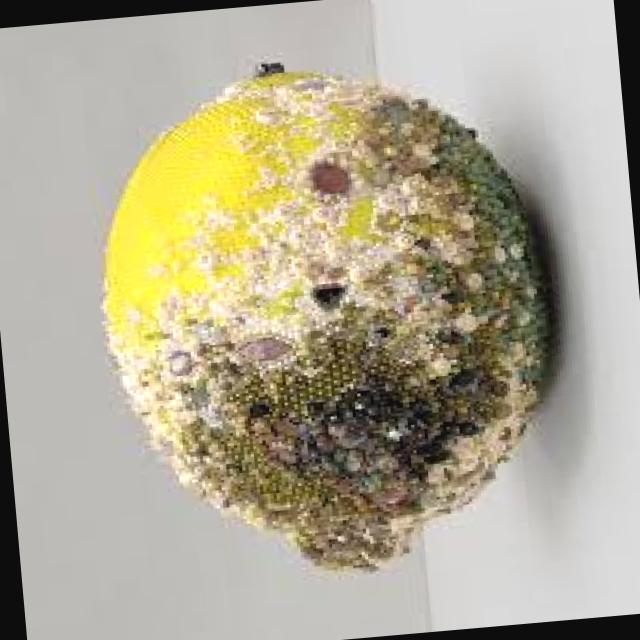organic: (99, 41, 554, 588)
